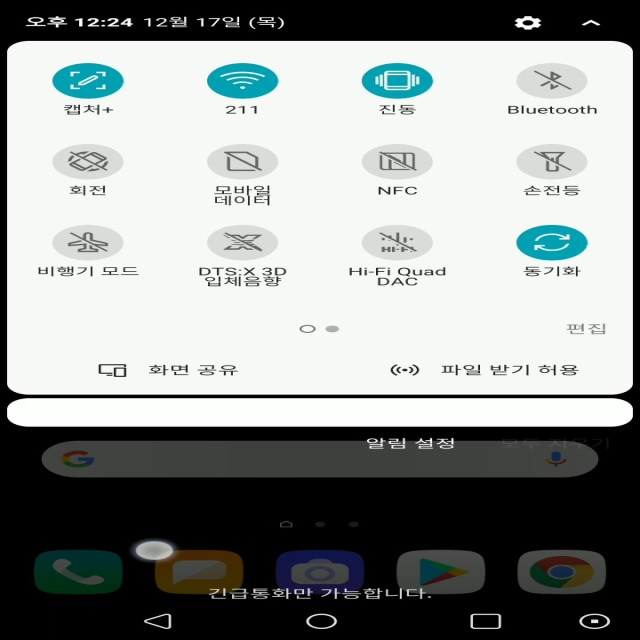Cursor: (131, 540, 176, 562)
